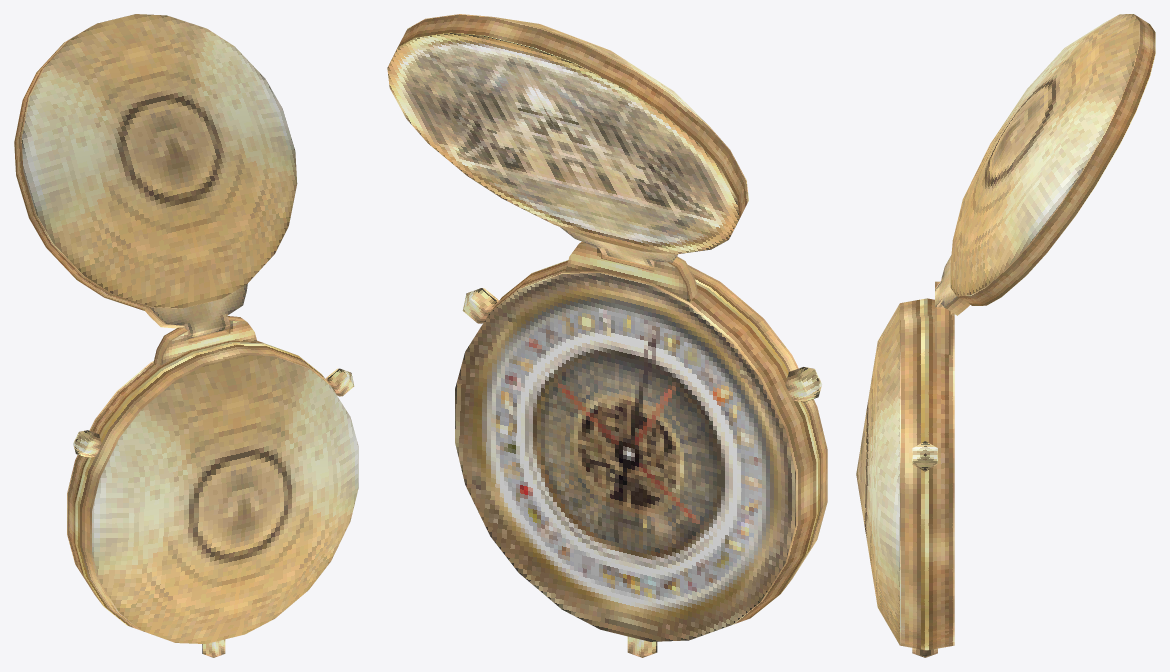
Rendered from ps2_save-icons_thegoldencompass.glb.
3 renders of one model, left to right at view 1: azimuth 30°, elevation 25°; view 2: azimuth 150°, elevation 25°; view 3: azimuth 270°, elevation 25°, orthographic. The views are drawn at different scales.
Parts seen in each view (by area): view 1: list.ico; view 2: list.ico; view 3: list.ico.
Part boxes in pixels (x1=…): list.ico: x1=14, y1=14, x2=358, y2=657; list.ico: x1=387, y1=14, x2=827, y2=657; list.ico: x1=856, y1=14, x2=1155, y2=657.
Size of the model in its own units: 2.31 by 4.55 by 1.98.
Materials: 1 (1 with a texture image).
